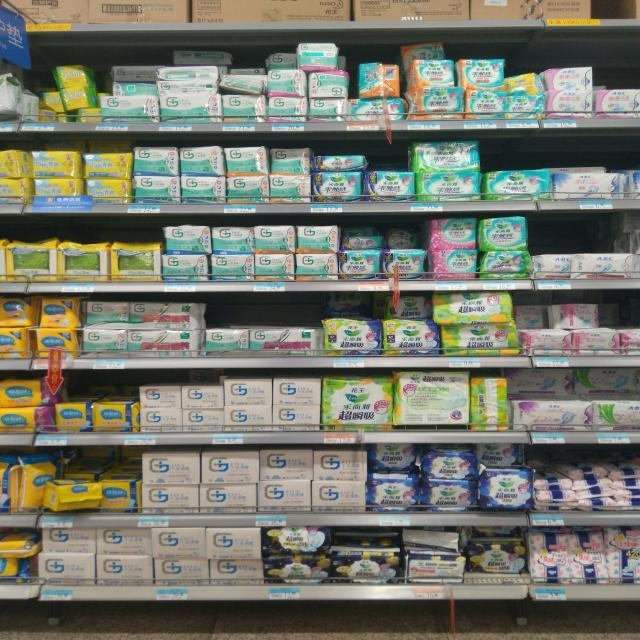unorganised: (463, 538, 530, 582), (50, 59, 99, 113), (49, 473, 104, 511), (356, 63, 401, 97), (103, 64, 155, 93), (476, 443, 527, 472), (371, 443, 417, 474), (221, 66, 266, 95), (533, 252, 579, 277), (513, 305, 552, 331), (268, 149, 310, 173), (558, 305, 600, 329), (340, 227, 382, 250), (167, 50, 232, 64), (2, 534, 40, 557), (385, 224, 421, 247), (506, 72, 541, 91), (265, 51, 298, 68), (406, 45, 442, 59)
